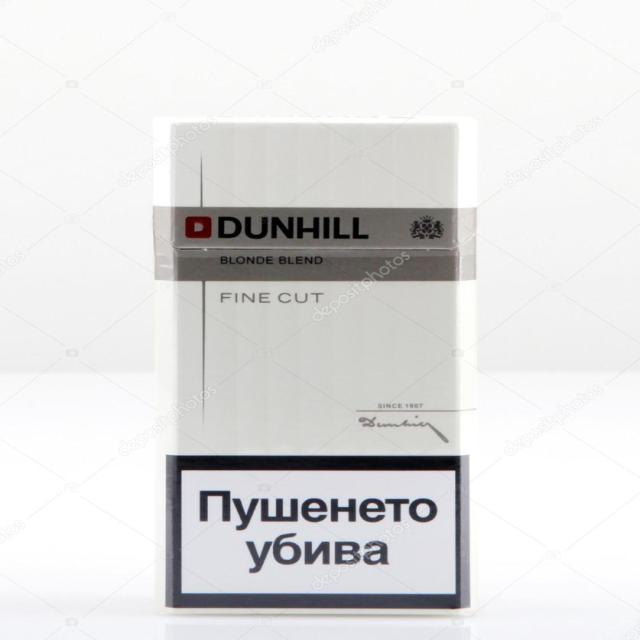dunhill: (167, 201, 466, 614)
